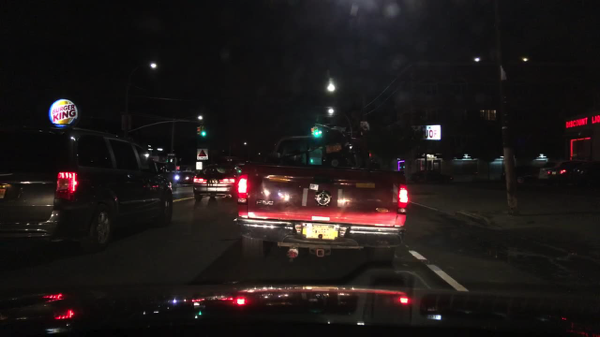car: (1, 123, 174, 257), (193, 160, 248, 201), (403, 169, 453, 186), (170, 169, 196, 185), (155, 161, 168, 177)
traffic light: (546, 158, 599, 182), (501, 164, 541, 185), (318, 129, 323, 139), (196, 125, 200, 136), (310, 128, 314, 139), (201, 126, 205, 136), (314, 128, 318, 138), (204, 126, 207, 138), (169, 157, 173, 163)
traffic sign: (121, 115, 131, 129)
truck: (235, 123, 408, 268)
